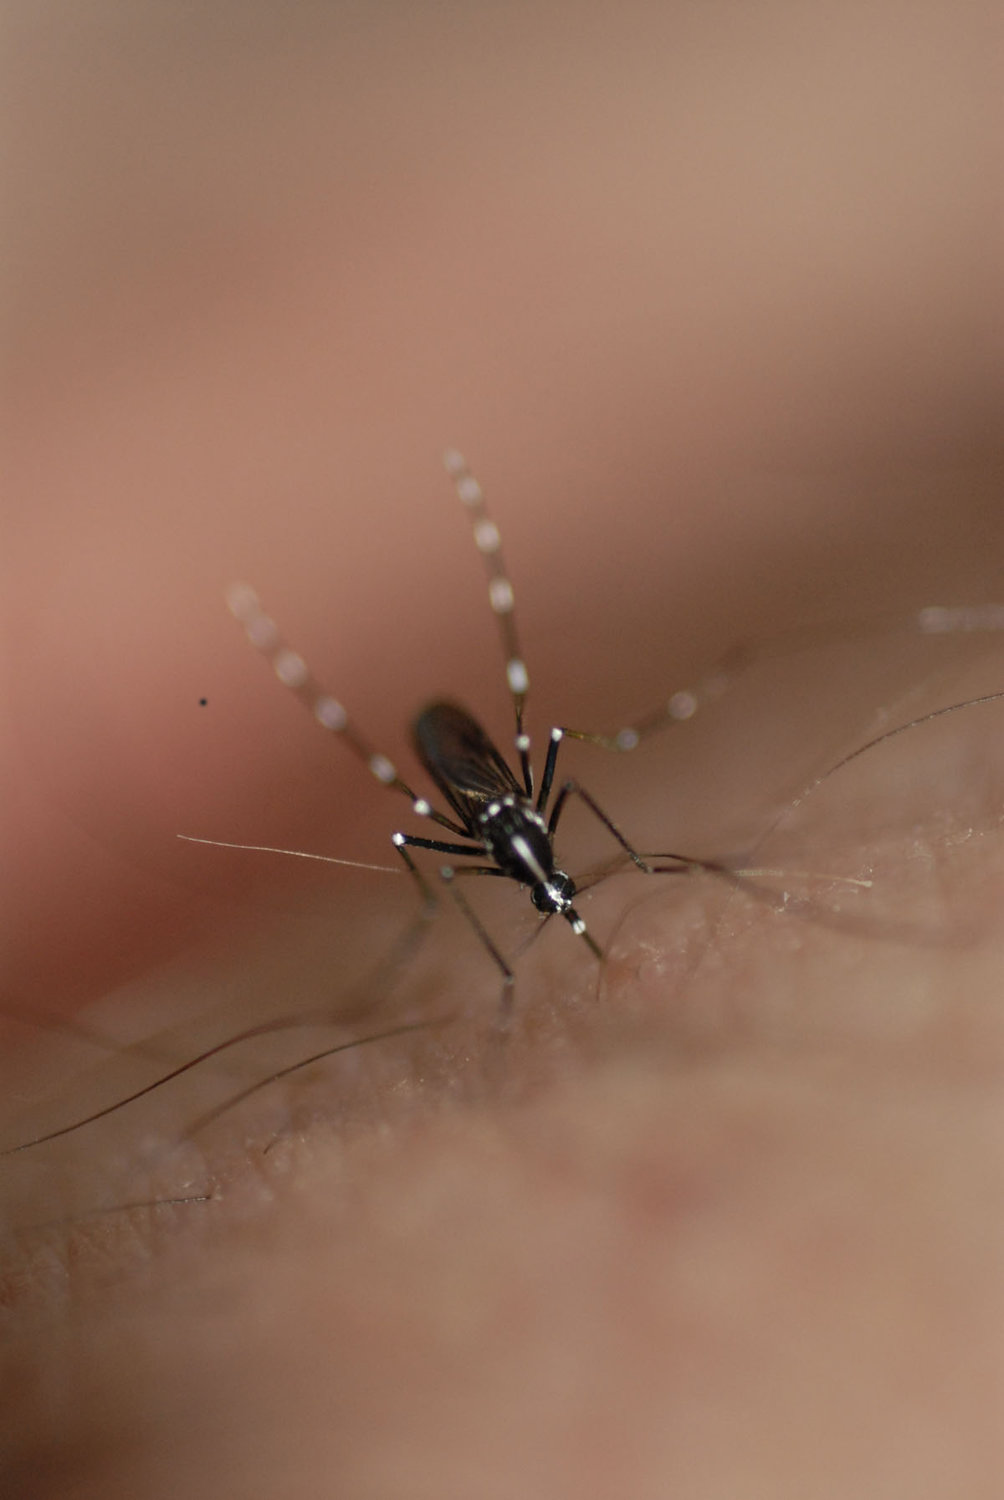dengue_mosquito: (254, 640, 727, 961)
